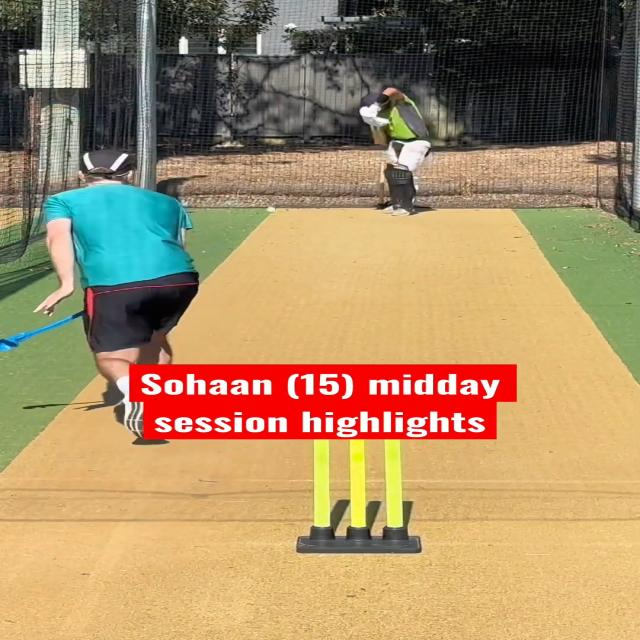Cricket ball: (265, 206, 276, 213)
